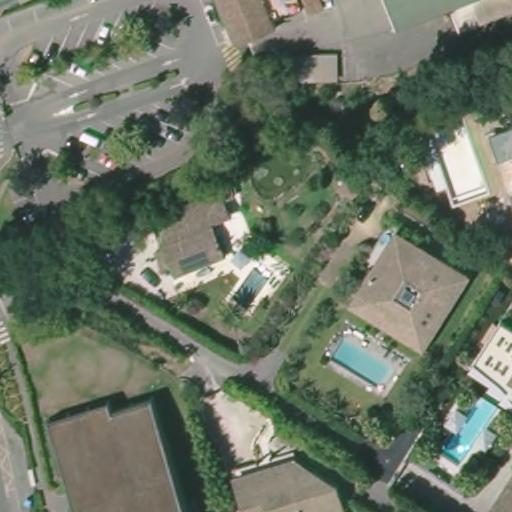pool: (326, 332, 399, 390), (441, 396, 498, 466)
